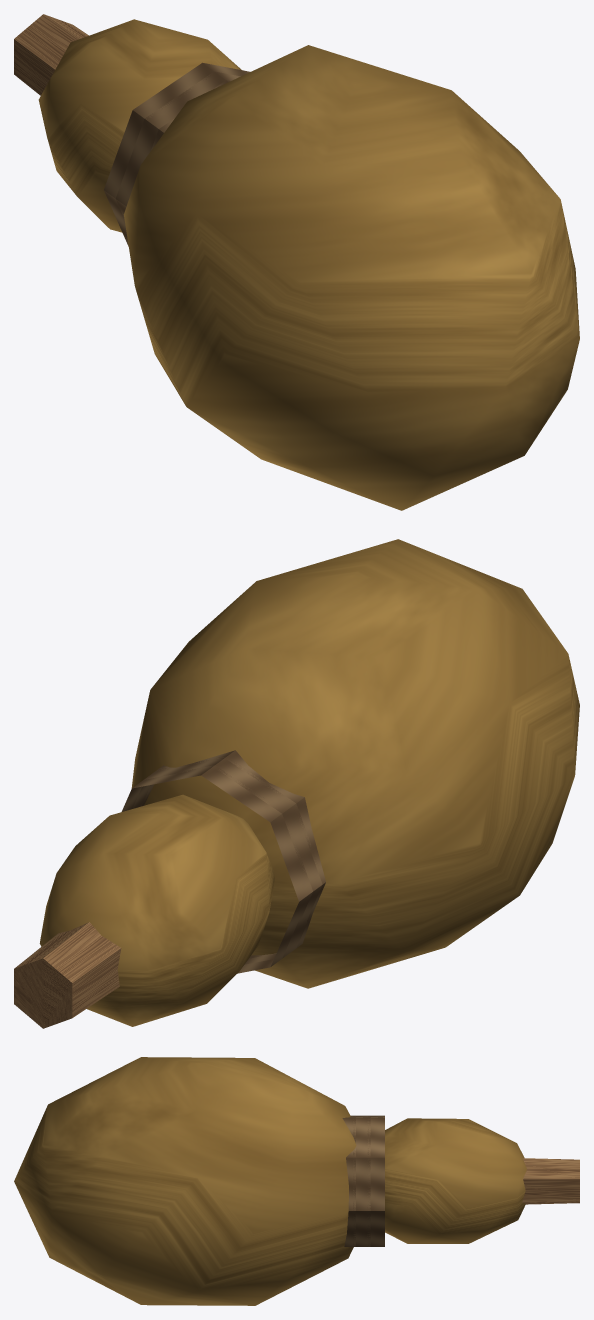
File: ITEM_WaterContainer.fbx
The picture shows the model from 3 angles, top to bottom: view 1: azimuth 30°, elevation 25°; view 2: azimuth 150°, elevation 25°; view 3: azimuth 270°, elevation 25°; orthographic projection. The views are drawn at different scales.
Parts seen in each view (by area): view 1: ITEM_WaterContainer; view 2: ITEM_WaterContainer; view 3: ITEM_WaterContainer.
Part boxes in pixels (bbox=[...]): ITEM_WaterContainer: bbox=[14, 14, 579, 510]; ITEM_WaterContainer: bbox=[14, 539, 579, 1028]; ITEM_WaterContainer: bbox=[14, 1057, 579, 1305].
Bounding box in the file's own units: 0.1139 × 0.1195 × 0.2594.
